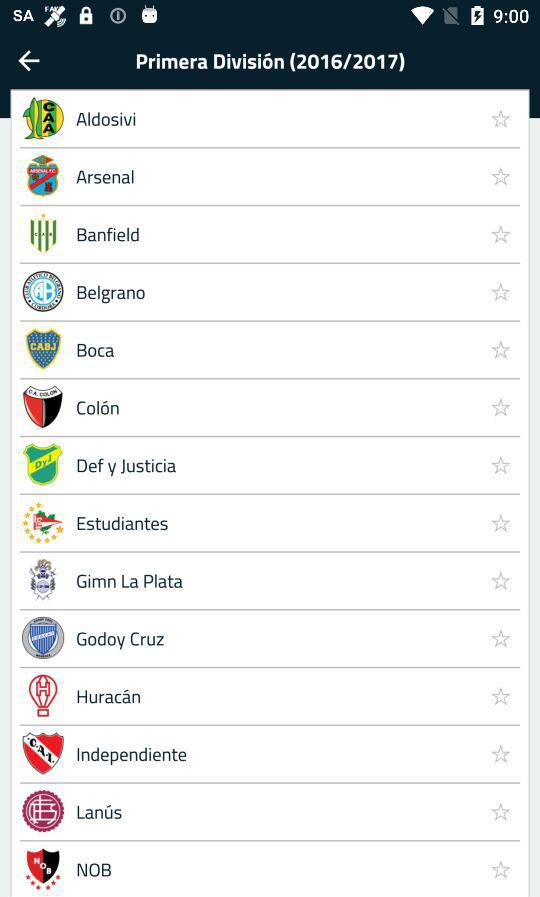Icon: (19, 50, 42, 73), (491, 860, 512, 879), (490, 803, 511, 822), (490, 630, 511, 649), (491, 745, 511, 764), (490, 572, 510, 591), (491, 514, 511, 533), (491, 456, 511, 475), (491, 398, 511, 417), (490, 341, 510, 360), (490, 226, 510, 245), (491, 110, 511, 129), (491, 284, 511, 302), (491, 168, 511, 186), (492, 688, 511, 706)
Image: (23, 97, 66, 142), (22, 732, 65, 776), (22, 790, 65, 833), (23, 617, 66, 660), (22, 502, 65, 545), (23, 271, 66, 313), (23, 443, 64, 487), (23, 385, 64, 429), (25, 328, 63, 372), (25, 848, 62, 891), (27, 155, 61, 198), (28, 558, 59, 601), (29, 674, 59, 718), (30, 213, 58, 256)
Text: (136, 53, 405, 73), (77, 747, 188, 766), (77, 458, 177, 477), (77, 573, 184, 589), (77, 632, 166, 651), (77, 516, 169, 531), (77, 285, 146, 305), (78, 689, 142, 704), (77, 112, 137, 128), (78, 228, 141, 243), (76, 170, 135, 185), (77, 804, 123, 820), (77, 401, 121, 416), (78, 343, 116, 358), (78, 862, 113, 878)
UpperTaskBar: (1, 1, 540, 30)
